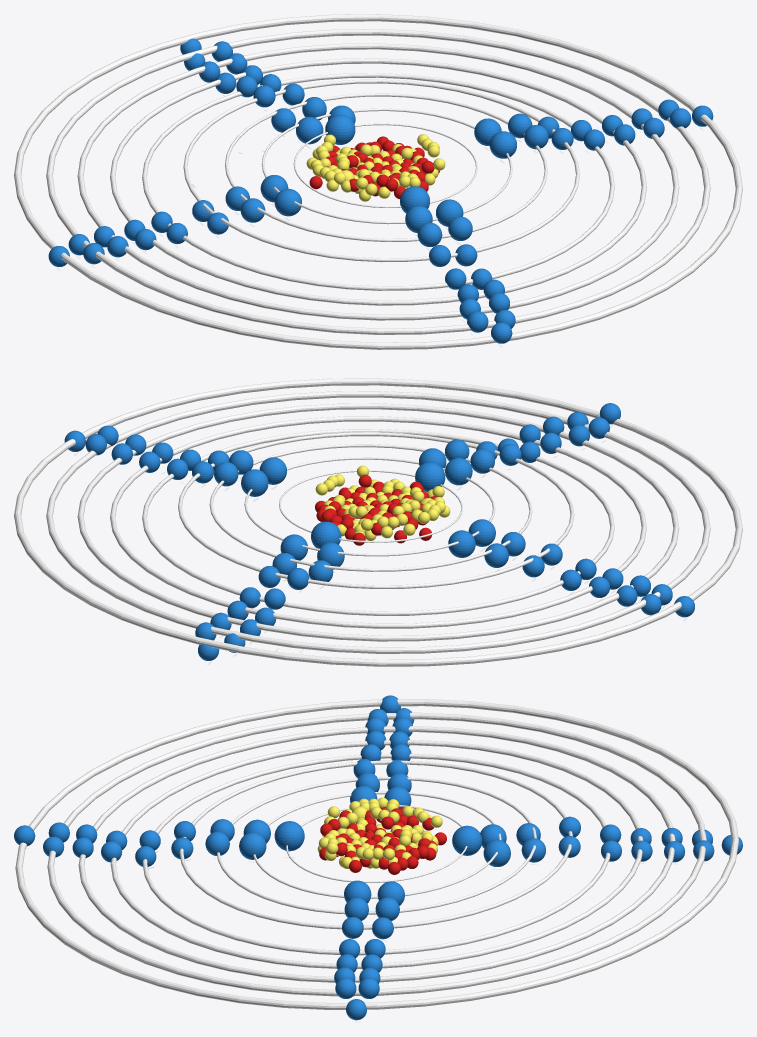
3 views of the same model, one above another, from view 1: azimuth 30°, elevation 25°; view 2: azimuth 150°, elevation 25°; view 3: azimuth 270°, elevation 25° (orthographic).
Visible parts, largest first — view 1: Torus.009, Torus.008, Torus.007, Torus.006, Torus.005, Torus.004, Torus.003, Torus.002, Torus.001, g, g.005, g.003 (+2 smaller); view 2: Torus.009, Torus.008, Torus.007, Torus.006, Torus.005, Torus.004, Torus.003, Torus.002, Torus.001, g.001, g, g.006 (+8 smaller); view 3: Torus.009, Torus.008, Torus.007, Torus.006, Torus.005, Torus.004, Torus.003, Torus.002, g.001, g, Torus.001, g.007 (+1 smaller).
Boxes of the visible parts, x1,y1,x2,y2 form: Torus.009: [14, 14, 742, 349]; Torus.008: [46, 29, 710, 334]; Torus.007: [77, 43, 679, 320]; Torus.006: [110, 58, 646, 305]; Torus.005: [142, 73, 614, 290]; Torus.004: [183, 79, 579, 262]; Torus.003: [225, 93, 547, 241]; Torus.002: [261, 108, 512, 224]; Torus.001: [293, 123, 477, 207]; g: [325, 114, 355, 144]; g.005: [489, 131, 516, 158]; g.003: [274, 188, 301, 216]; Torus.009: [14, 378, 742, 666]; Torus.008: [46, 391, 710, 653]; Torus.007: [77, 403, 679, 641]; Torus.006: [110, 416, 646, 628]; Torus.005: [142, 429, 614, 615]; Torus.004: [178, 432, 574, 588]; Torus.003: [209, 444, 532, 571]; Torus.002: [244, 457, 495, 556]; Torus.001: [279, 470, 462, 542]; g.001: [415, 462, 445, 491]; g: [311, 521, 341, 548]; g.006: [445, 458, 472, 485]; Torus.009: [15, 699, 738, 1009]; Torus.008: [47, 712, 706, 996]; Torus.007: [78, 726, 675, 982]; Torus.006: [110, 740, 642, 968]; Torus.005: [142, 753, 610, 955]; Torus.004: [179, 760, 572, 929]; Torus.003: [217, 777, 536, 914]; Torus.002: [253, 791, 501, 898]; g.001: [274, 821, 304, 851]; g: [452, 825, 482, 855]; Torus.001: [286, 805, 467, 882]; g.007: [239, 832, 266, 859].
Bounding box in the file's own units: 24.29 × 2.85 × 23.95.
